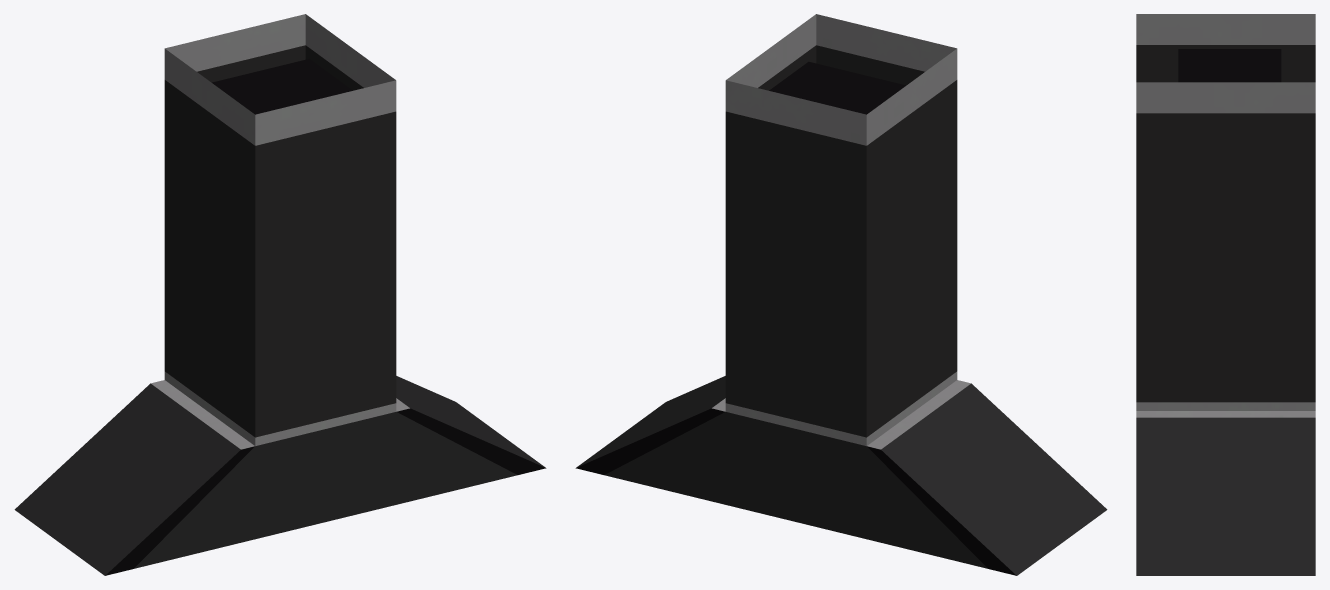
Rendered from Oven_Vent.fbx.
3 views of the same model, side by side, from view 1: azimuth 30°, elevation 25°; view 2: azimuth 150°, elevation 25°; view 3: azimuth 270°, elevation 25° (orthographic).
Visible parts, largest first — view 1: Vent; view 2: Vent; view 3: Vent.
Part boxes in pixels (bbox=[...]): Vent: bbox=[14, 14, 546, 575]; Vent: bbox=[575, 14, 1107, 575]; Vent: bbox=[1136, 14, 1315, 575].
Bounding box in the file's own units: 163 × 150 × 57.84.
